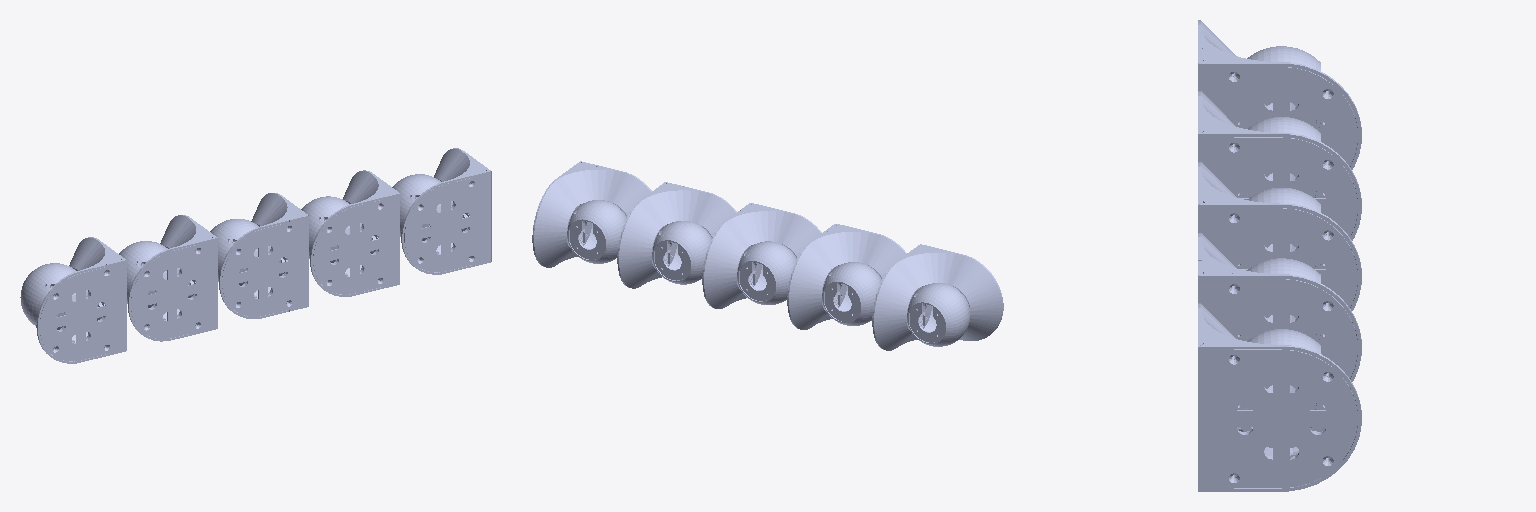
The robot description file, URDF, robot "ubot":
<robot
	name="ubot">
  <link
    name="Body0X">
    <inertial>
      <origin
        xyz="-0.0019165 -0.020284 -1.5446E-08"
        rpy="0 0 0" />
      <mass
        value="0.2" />
      <inertia
        ixx="8.68E-05"
        ixy="-2.3313E-05"
        ixz="-3.6916E-12"
        iyy="8.6964E-05"
        iyz="2.5395E-11"
        izz="8.7186E-05" />
    </inertial>
    <visual>
      <origin
        xyz="0 0 0"
        rpy="0 0 0" />
      <geometry>
        <mesh
          filename="./meshes/BodyX.dae" />
      </geometry>
      <material
        name="">
        <color
          rgba="0.79216 0.81961 0.93333 1" />
      </material>
    </visual>
    <collision>
      <origin
        xyz="0 0 0"
        rpy="0 0 0" />
      <geometry>
        <mesh
          filename="./meshes/BodyXSimple.dae" />
      </geometry>
    </collision>
  </link>

  <link
    name="Body0Center">
    <inertial>
      <origin
        xyz="-0.0022809 -0.0021962 1.0803E-06"
        rpy="0 0 0" />
      <mass
        value="0.05" />
      <inertia
        ixx="1.0293E-05"
        ixy="8.5442E-08"
        ixz="-6.5039E-08"
        iyy="1.0301E-05"
        iyz="6.5245E-08"
        izz="9.1191E-06" />
    </inertial>
    <visual>
      <origin
        xyz="0 0 0"
        rpy="0 0 0" />
      <geometry>
        <mesh
          filename="./meshes/BodyCenter.dae" />
      </geometry>
      <material
        name="">
        <color
          rgba="0.79216 0.81961 0.93333 1" />
      </material>
    </visual>
    <collision>
      <origin
        xyz="0 0 0"
        rpy="0 0 0" />
      <geometry>
        <mesh
          filename="./meshes/BodyCenterSimple.dae" />
      </geometry>
    </collision>
  </link>

  <link
    name="Body0Y">
    <inertial>
      <origin
        xyz="-0.020284 -0.0019165 1.5445E-08"
        rpy="0 0 0" />
      <mass
        value="0.2" />
      <inertia
        ixx="8.6964E-05"
        ixy="-2.3313E-05"
        ixz="-2.5395E-11"
        iyy="8.68E-05"
        iyz="3.6916E-12"
        izz="8.7186E-05" />
    </inertial>
    <visual>
      <origin
        xyz="0 0 0"
        rpy="0 0 0" />
      <geometry>
        <mesh
          filename="./meshes/BodyY.dae" />
      </geometry>
      <material
        name="">
        <color
          rgba="0.79216 0.81961 0.93333 1" />
      </material>
    </visual>
    <collision>
      <origin
        xyz="0 0 0"
        rpy="0 0 0" />
      <geometry>
        <mesh
          filename="./meshes/BodyYSimple.dae" />
      </geometry>
    </collision>
  </link>

  <joint
    name="joint0Y"
    type="revolute">
    <limit effort="1.8" lower="-1.507" upper="1.507" velocity="3.14"/>
    <origin
      xyz="0 -0.0218 0"
      rpy="0 0 0" />
    <parent
      link="Body0Y" />
    <child
      link="Body0Center" />
    <axis
      xyz="0 -1 0" />
  </joint>

  <joint
    name="Joint0X"
    type="revolute">
    <limit effort="1.8" lower="-1.507" upper="1.507" velocity="3.14"/>
    <origin
      xyz="0.0218 0 0"
      rpy="0 0 0" />
    <parent
      link="Body0Center" />
    <child
      link="Body0X" />
    <axis
      xyz="1 0 0" />
  </joint>


  <link
    name="Body1X">
    <inertial>
      <origin
        xyz="-0.0019165 -0.020284 -1.5446E-08"
        rpy="0 0 0" />
      <mass
        value="0.2" />
      <inertia
        ixx="8.68E-05"
        ixy="-2.3313E-05"
        ixz="-3.6916E-12"
        iyy="8.6964E-05"
        iyz="2.5395E-11"
        izz="8.7186E-05" />
    </inertial>
    <visual>
      <origin
        xyz="0 0 0"
        rpy="0 0 0" />
      <geometry>
        <mesh
          filename="./meshes/BodyX.dae" />
      </geometry>
      <material
        name="">
        <color
          rgba="0.79216 0.81961 0.93333 1" />
      </material>
    </visual>
    <collision>
      <origin
        xyz="0 0 0"
        rpy="0 0 0" />
      <geometry>
        <mesh
          filename="./meshes/BodyXSimple.dae" />
      </geometry>
    </collision>
  </link>

  <link
    name="Body1Center">
    <inertial>
      <origin
        xyz="-0.0022809 -0.0021962 1.0803E-06"
        rpy="0 0 0" />
      <mass
        value="0.05" />
      <inertia
        ixx="1.0293E-05"
        ixy="8.5442E-08"
        ixz="-6.5039E-08"
        iyy="1.0301E-05"
        iyz="6.5245E-08"
        izz="9.1191E-06" />
    </inertial>
    <visual>
      <origin
        xyz="0 0 0"
        rpy="0 0 0" />
      <geometry>
        <mesh
          filename="./meshes/BodyCenter.dae" />
      </geometry>
      <material
        name="">
        <color
          rgba="0.79216 0.81961 0.93333 1" />
      </material>
    </visual>
    <collision>
      <origin
        xyz="0 0 0"
        rpy="0 0 0" />
      <geometry>
        <mesh
          filename="./meshes/BodyCenterSimple.dae" />
      </geometry>
    </collision>
  </link>

  <link
    name="Body1Y">
    <inertial>
      <origin
        xyz="-0.020284 -0.0019165 1.5445E-08"
        rpy="0 0 0" />
      <mass
        value="0.2" />
      <inertia
        ixx="8.6964E-05"
        ixy="-2.3313E-05"
        ixz="-2.5395E-11"
        iyy="8.68E-05"
        iyz="3.6916E-12"
        izz="8.7186E-05" />
    </inertial>
    <visual>
      <origin
        xyz="0 0 0"
        rpy="0 0 0" />
      <geometry>
        <mesh
          filename="./meshes/BodyY.dae" />
      </geometry>
      <material
        name="">
        <color
          rgba="0.79216 0.81961 0.93333 1" />
      </material>
    </visual>
    <collision>
      <origin
        xyz="0 0 0"
        rpy="0 0 0" />
      <geometry>
        <mesh
          filename="./meshes/BodyYSimple.dae" />
      </geometry>
    </collision>
  </link>

  <joint
    name="joint1Y"
    type="revolute">
    <limit effort="1.8" lower="-1.507" upper="1.507" velocity="3.14"/>
    <origin
      xyz="0 -0.0218 0"
      rpy="0 0 0" />
    <parent
      link="Body1Y" />
    <child
      link="Body1Center" />
    <axis
      xyz="0 -1 0" />
  </joint>

  <joint
    name="Joint1X"
    type="revolute">
    <limit effort="1.8" lower="-1.507" upper="1.507" velocity="3.14"/>
    <origin
      xyz="0.0218 0 0"
      rpy="0 0 0" />
    <parent
      link="Body1Center" />
    <child
      link="Body1X" />
    <axis
      xyz="1 0 0" />
  </joint>


  <joint
    name="Joint0to1"
    type="fixed">
    <origin
      xyz="0.0698 0.0218 0.0"
      rpy="0.0 -0.0 0.0" />
    <parent
      link="Body0X" />
    <child
      link="Body1Y" />
    <axis
      xyz="0 0 0" />
  </joint>

  <link
    name="Body2X">
    <inertial>
      <origin
        xyz="-0.0019165 -0.020284 -1.5446E-08"
        rpy="0 0 0" />
      <mass
        value="0.2" />
      <inertia
        ixx="8.68E-05"
        ixy="-2.3313E-05"
        ixz="-3.6916E-12"
        iyy="8.6964E-05"
        iyz="2.5395E-11"
        izz="8.7186E-05" />
    </inertial>
    <visual>
      <origin
        xyz="0 0 0"
        rpy="0 0 0" />
      <geometry>
        <mesh
          filename="./meshes/BodyX.dae" />
      </geometry>
      <material
        name="">
        <color
          rgba="0.79216 0.81961 0.93333 1" />
      </material>
    </visual>
    <collision>
      <origin
        xyz="0 0 0"
        rpy="0 0 0" />
      <geometry>
        <mesh
          filename="./meshes/BodyXSimple.dae" />
      </geometry>
    </collision>
  </link>

  <link
    name="Body2Center">
    <inertial>
      <origin
        xyz="-0.0022809 -0.0021962 1.0803E-06"
        rpy="0 0 0" />
      <mass
        value="0.05" />
      <inertia
        ixx="1.0293E-05"
        ixy="8.5442E-08"
        ixz="-6.5039E-08"
        iyy="1.0301E-05"
        iyz="6.5245E-08"
        izz="9.1191E-06" />
    </inertial>
    <visual>
      <origin
        xyz="0 0 0"
        rpy="0 0 0" />
      <geometry>
        <mesh
          filename="./meshes/BodyCenter.dae" />
      </geometry>
      <material
        name="">
        <color
          rgba="0.79216 0.81961 0.93333 1" />
      </material>
    </visual>
    <collision>
      <origin
        xyz="0 0 0"
        rpy="0 0 0" />
      <geometry>
        <mesh
          filename="./meshes/BodyCenterSimple.dae" />
      </geometry>
    </collision>
  </link>

  <link
    name="Body2Y">
    <inertial>
      <origin
        xyz="-0.020284 -0.0019165 1.5445E-08"
        rpy="0 0 0" />
      <mass
        value="0.2" />
      <inertia
        ixx="8.6964E-05"
        ixy="-2.3313E-05"
        ixz="-2.5395E-11"
        iyy="8.68E-05"
        iyz="3.6916E-12"
        izz="8.7186E-05" />
    </inertial>
    <visual>
      <origin
        xyz="0 0 0"
        rpy="0 0 0" />
      <geometry>
        <mesh
          filename="./meshes/BodyY.dae" />
      </geometry>
      <material
        name="">
        <color
          rgba="0.79216 0.81961 0.93333 1" />
      </material>
    </visual>
    <collision>
      <origin
        xyz="0 0 0"
        rpy="0 0 0" />
      <geometry>
        <mesh
          filename="./meshes/BodyYSimple.dae" />
      </geometry>
    </collision>
  </link>

  <joint
    name="joint2Y"
    type="revolute">
    <limit effort="1.8" lower="-1.507" upper="1.507" velocity="3.14"/>
    <origin
      xyz="0 -0.0218 0"
      rpy="0 0 0" />
    <parent
      link="Body2Y" />
    <child
      link="Body2Center" />
    <axis
      xyz="0 -1 0" />
  </joint>

  <joint
    name="Joint2X"
    type="revolute">
    <limit effort="1.8" lower="-1.507" upper="1.507" velocity="3.14"/>
    <origin
      xyz="0.0218 0 0"
      rpy="0 0 0" />
    <parent
      link="Body2Center" />
    <child
      link="Body2X" />
    <axis
      xyz="1 0 0" />
  </joint>


  <joint
    name="Joint1to2"
    type="fixed">
    <origin
      xyz="0.0698 0.0218 0.0"
      rpy="0.0 -0.0 0.0" />
    <parent
      link="Body1X" />
    <child
      link="Body2Y" />
    <axis
      xyz="0 0 0" />
  </joint>

  <link
    name="Body3X">
    <inertial>
      <origin
        xyz="-0.0019165 -0.020284 -1.5446E-08"
        rpy="0 0 0" />
      <mass
        value="0.2" />
      <inertia
        ixx="8.68E-05"
        ixy="-2.3313E-05"
        ixz="-3.6916E-12"
        iyy="8.6964E-05"
        iyz="2.5395E-11"
        izz="8.7186E-05" />
    </inertial>
    <visual>
      <origin
        xyz="0 0 0"
        rpy="0 0 0" />
      <geometry>
        <mesh
          filename="./meshes/BodyX.dae" />
      </geometry>
      <material
        name="">
        <color
          rgba="0.79216 0.81961 0.93333 1" />
      </material>
    </visual>
    <collision>
      <origin
        xyz="0 0 0"
        rpy="0 0 0" />
      <geometry>
        <mesh
          filename="./meshes/BodyXSimple.dae" />
      </geometry>
    </collision>
  </link>

  <link
    name="Body3Center">
    <inertial>
      <origin
        xyz="-0.0022809 -0.0021962 1.0803E-06"
        rpy="0 0 0" />
      <mass
        value="0.05" />
      <inertia
        ixx="1.0293E-05"
        ixy="8.5442E-08"
        ixz="-6.5039E-08"
        iyy="1.0301E-05"
        iyz="6.5245E-08"
        izz="9.1191E-06" />
    </inertial>
    <visual>
      <origin
        xyz="0 0 0"
        rpy="0 0 0" />
      <geometry>
        <mesh
          filename="./meshes/BodyCenter.dae" />
      </geometry>
      <material
        name="">
        <color
          rgba="0.79216 0.81961 0.93333 1" />
      </material>
    </visual>
    <collision>
      <origin
        xyz="0 0 0"
        rpy="0 0 0" />
      <geometry>
        <mesh
          filename="./meshes/BodyCenterSimple.dae" />
      </geometry>
    </collision>
  </link>

  <link
    name="Body3Y">
    <inertial>
      <origin
        xyz="-0.020284 -0.0019165 1.5445E-08"
        rpy="0 0 0" />
      <mass
        value="0.2" />
      <inertia
        ixx="8.6964E-05"
        ixy="-2.3313E-05"
        ixz="-2.5395E-11"
        iyy="8.68E-05"
        iyz="3.6916E-12"
        izz="8.7186E-05" />
    </inertial>
    <visual>
      <origin
        xyz="0 0 0"
        rpy="0 0 0" />
      <geometry>
        <mesh
          filename="./meshes/BodyY.dae" />
      </geometry>
      <material
        name="">
        <color
          rgba="0.79216 0.81961 0.93333 1" />
      </material>
    </visual>
    <collision>
      <origin
        xyz="0 0 0"
        rpy="0 0 0" />
      <geometry>
        <mesh
          filename="./meshes/BodyYSimple.dae" />
      </geometry>
    </collision>
  </link>

  <joint
    name="joint3Y"
    type="revolute">
    <limit effort="1.8" lower="-1.507" upper="1.507" velocity="3.14"/>
    <origin
      xyz="0 -0.0218 0"
      rpy="0 0 0" />
    <parent
      link="Body3Y" />
    <child
      link="Body3Center" />
    <axis
      xyz="0 -1 0" />
  </joint>

  <joint
    name="Joint3X"
    type="revolute">
    <limit effort="1.8" lower="-1.507" upper="1.507" velocity="3.14"/>
    <origin
      xyz="0.0218 0 0"
      rpy="0 0 0" />
    <parent
      link="Body3Center" />
    <child
      link="Body3X" />
    <axis
      xyz="1 0 0" />
  </joint>


  <joint
    name="Joint2to3"
    type="fixed">
    <origin
      xyz="0.0698 0.0218 0.0"
      rpy="0.0 -0.0 0.0" />
    <parent
      link="Body2X" />
    <child
      link="Body3Y" />
    <axis
      xyz="0 0 0" />
  </joint>

  <link
    name="Body4X">
    <inertial>
      <origin
        xyz="-0.0019165 -0.020284 -1.5446E-08"
        rpy="0 0 0" />
      <mass
        value="0.2" />
      <inertia
        ixx="8.68E-05"
        ixy="-2.3313E-05"
        ixz="-3.6916E-12"
        iyy="8.6964E-05"
        iyz="2.5395E-11"
        izz="8.7186E-05" />
    </inertial>
    <visual>
      <origin
        xyz="0 0 0"
        rpy="0 0 0" />
      <geometry>
        <mesh
          filename="./meshes/BodyX.dae" />
      </geometry>
      <material
        name="">
        <color
          rgba="0.79216 0.81961 0.93333 1" />
      </material>
    </visual>
    <collision>
      <origin
        xyz="0 0 0"
        rpy="0 0 0" />
      <geometry>
        <mesh
          filename="./meshes/BodyXSimple.dae" />
      </geometry>
    </collision>
  </link>

  <link
    name="Body4Center">
    <inertial>
      <origin
        xyz="-0.0022809 -0.0021962 1.0803E-06"
        rpy="0 0 0" />
      <mass
        value="0.05" />
      <inertia
        ixx="1.0293E-05"
        ixy="8.5442E-08"
        ixz="-6.5039E-08"
        iyy="1.0301E-05"
        iyz="6.5245E-08"
        izz="9.1191E-06" />
    </inertial>
    <visual>
      <origin
        xyz="0 0 0"
        rpy="0 0 0" />
      <geometry>
        <mesh
          filename="./meshes/BodyCenter.dae" />
      </geometry>
      <material
        name="">
        <color
          rgba="0.79216 0.81961 0.93333 1" />
      </material>
    </visual>
    <collision>
      <origin
        xyz="0 0 0"
        rpy="0 0 0" />
      <geometry>
        <mesh
          filename="./meshes/BodyCenterSimple.dae" />
      </geometry>
    </collision>
  </link>

  <link
    name="Body4Y">
    <inertial>
      <origin
        xyz="-0.020284 -0.0019165 1.5445E-08"
        rpy="0 0 0" />
      <mass
        value="0.2" />
      <inertia
        ixx="8.6964E-05"
        ixy="-2.3313E-05"
        ixz="-2.5395E-11"
        iyy="8.68E-05"
        iyz="3.6916E-12"
        izz="8.7186E-05" />
    </inertial>
    <visual>
      <origin
        xyz="0 0 0"
        rpy="0 0 0" />
      <geometry>
        <mesh
          filename="./meshes/BodyY.dae" />
      </geometry>
      <material
        name="">
        <color
          rgba="0.79216 0.81961 0.93333 1" />
      </material>
    </visual>
    <collision>
      <origin
        xyz="0 0 0"
        rpy="0 0 0" />
      <geometry>
        <mesh
          filename="./meshes/BodyYSimple.dae" />
      </geometry>
    </collision>
  </link>

  <joint
    name="joint4Y"
    type="revolute">
    <limit effort="1.8" lower="-1.507" upper="1.507" velocity="3.14"/>
    <origin
      xyz="0 -0.0218 0"
      rpy="0 0 0" />
    <parent
      link="Body4Y" />
    <child
      link="Body4Center" />
    <axis
      xyz="0 -1 0" />
  </joint>

  <joint
    name="Joint4X"
    type="revolute">
    <limit effort="1.8" lower="-1.507" upper="1.507" velocity="3.14"/>
    <origin
      xyz="0.0218 0 0"
      rpy="0 0 0" />
    <parent
      link="Body4Center" />
    <child
      link="Body4X" />
    <axis
      xyz="1 0 0" />
  </joint>


  <joint
    name="Joint3to4"
    type="fixed">
    <origin
      xyz="0.0698 0.0218 0.0"
      rpy="0.0 -0.0 0.0" />
    <parent
      link="Body3X" />
    <child
      link="Body4Y" />
    <axis
      xyz="0 0 0" />
  </joint>

</robot>

--- What the picture shows (computed from the rendered views, not written in the file) ---
3 views of the same robot in one strip: view 1: azimuth 30°, elevation 25°; view 2: azimuth 150°, elevation 25°; view 3: azimuth 270°, elevation 25° (orthographic).
Model ubot with 15 links and 14 joints (10 revolute, 4 fixed), rooted at Body0Y, posed all joints at 0.
Links seen in each view (by area): view 1: Body4X, Body0X, Body1X, Body2X, Body3X, Body0Center, Body4Center, Body3Center, Body2Center, Body1Center; view 2: Body0X, Body4X, Body3X, Body1X, Body2X, Body0Center, Body1Center, Body3Center, Body2Center, Body4Center; view 3: Body4X, Body3X, Body1X, Body2X, Body0X, Body4Center, Body0Center, Body1Center, Body2Center, Body3Center.
Link boxes in pixels (<box>): Body4X: <box>401,148,491,274</box>; Body0X: <box>36,237,126,363</box>; Body1X: <box>128,215,217,341</box>; Body2X: <box>219,193,308,318</box>; Body3X: <box>310,170,399,296</box>; Body0Center: <box>20,263,75,325</box>; Body4Center: <box>392,174,440,236</box>; Body3Center: <box>301,196,349,258</box>; Body2Center: <box>210,219,258,281</box>; Body1Center: <box>119,241,167,303</box>; Body0X: <box>872,244,1003,350</box>; Body4X: <box>532,161,651,267</box>; Body3X: <box>617,182,736,288</box>; Body1X: <box>787,224,906,329</box>; Body2X: <box>702,203,821,308</box>; Body0Center: <box>907,283,969,346</box>; Body1Center: <box>822,262,881,325</box>; Body3Center: <box>652,221,711,284</box>; Body2Center: <box>737,241,796,304</box>; Body4Center: <box>567,200,626,263</box>; Body4X: <box>1198,303,1361,491</box>; Body3X: <box>1198,233,1361,381</box>; Body1X: <box>1198,91,1361,240</box>; Body2X: <box>1198,162,1361,310</box>; Body0X: <box>1198,20,1361,169</box>; Body4Center: <box>1247,329,1320,409</box>; Body0Center: <box>1247,46,1320,127</box>; Body1Center: <box>1247,117,1320,197</box>; Body2Center: <box>1247,188,1320,268</box>; Body3Center: <box>1247,258,1320,339</box>.
Size in the robot's own frame: 0.4562 by 0.0898 by 0.0876 metres.
Meshes: 3 distinct files referenced, 10 mesh visuals loaded (2 Collada DAE); not drawn: 5 (reference not matched to a file when rendering).
